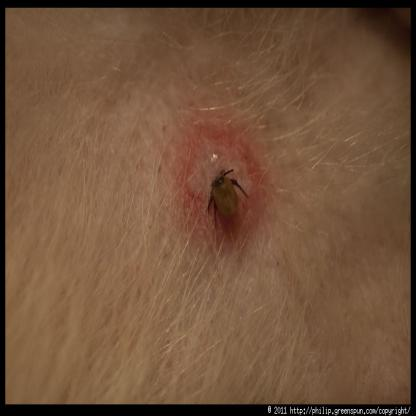Tick: (177, 122, 265, 244)
